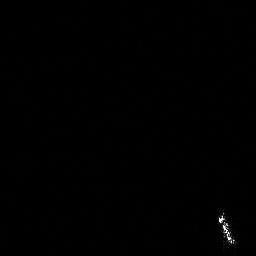ship: (214, 206, 240, 248)
